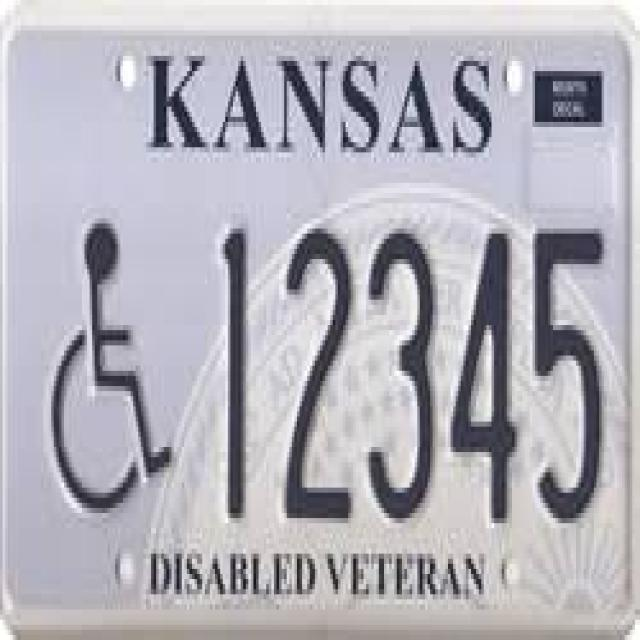car-handicap-placard: (36, 198, 187, 538)
